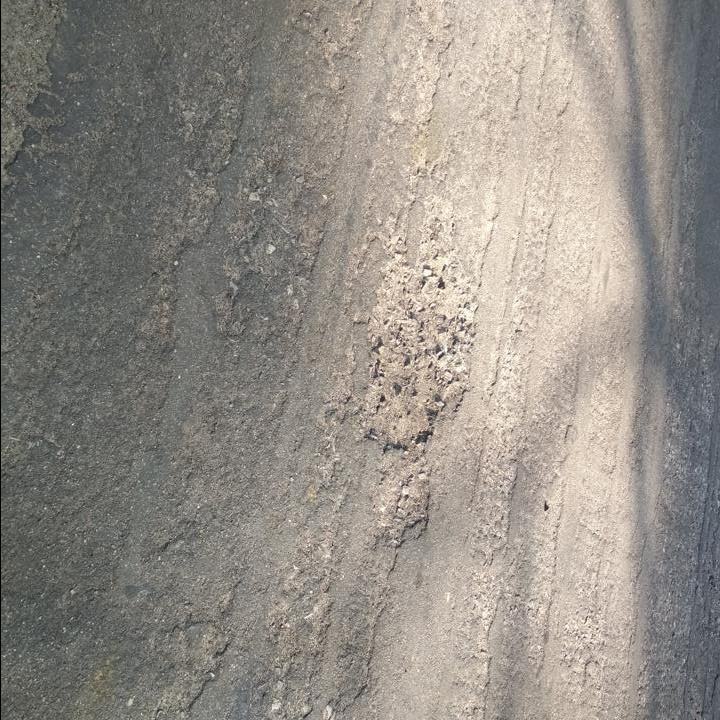pothole: (364, 254, 471, 456), (371, 455, 434, 545)
